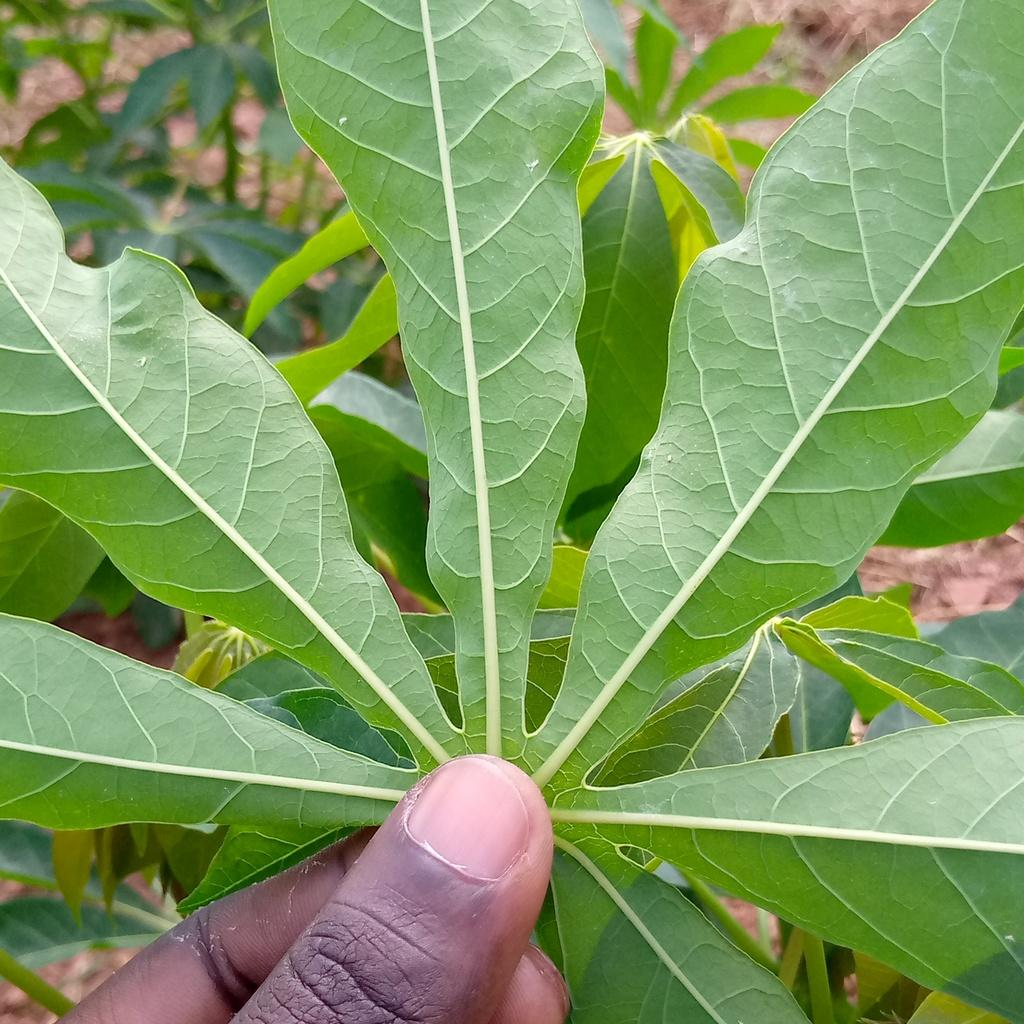adult: (526, 159, 538, 171), (338, 116, 348, 126), (738, 247, 749, 256), (1004, 934, 1015, 943), (140, 357, 147, 367), (666, 455, 673, 462)
